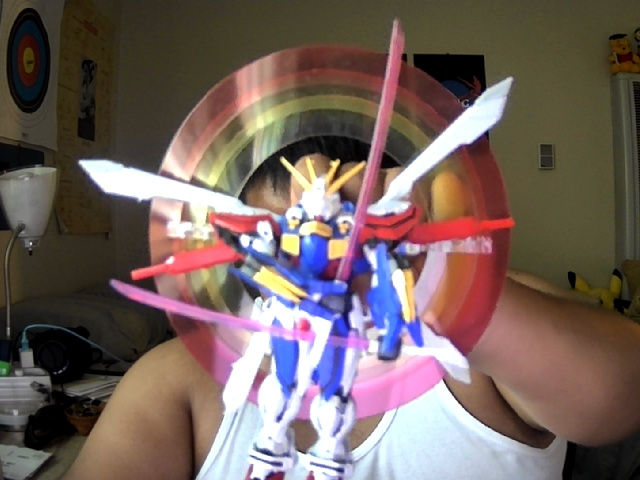God: (80, 20, 515, 480)
